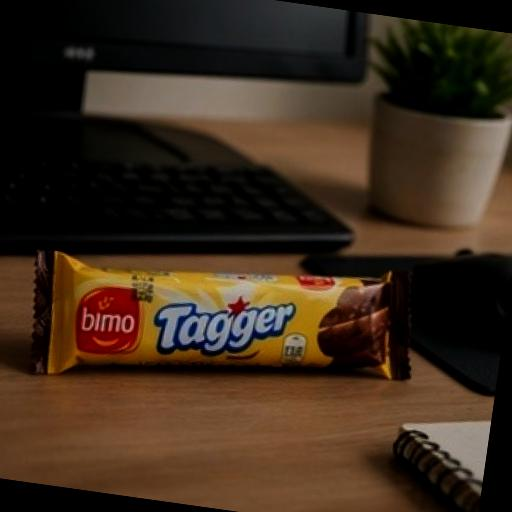tagger: (0, 204, 477, 487)
